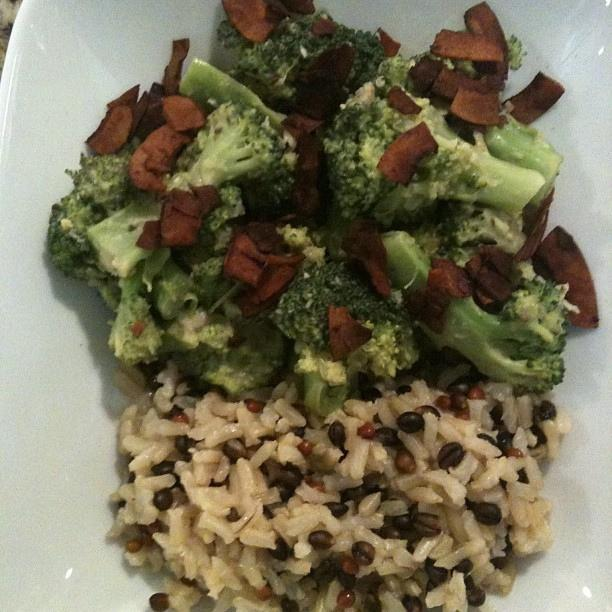broccoli: (87, 97, 285, 279), (318, 81, 546, 230), (270, 261, 418, 415), (415, 276, 580, 398), (227, 9, 333, 114), (178, 56, 288, 130), (486, 105, 564, 207), (201, 318, 285, 398), (107, 259, 165, 366), (436, 198, 526, 266), (302, 23, 384, 97), (66, 148, 146, 219), (197, 184, 246, 256), (371, 54, 421, 100), (407, 220, 445, 259), (186, 258, 224, 296), (194, 314, 235, 349), (157, 322, 199, 354), (275, 224, 312, 250), (506, 34, 528, 70), (426, 200, 452, 227)
